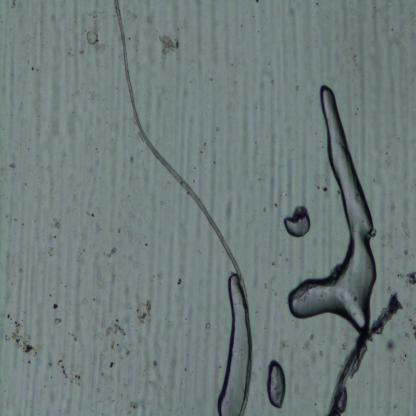Air bubble: (272, 83, 378, 333), (214, 271, 253, 413), (265, 359, 288, 410), (282, 203, 312, 239)
Background material: (132, 335, 166, 389), (4, 312, 42, 358), (42, 210, 67, 256), (297, 335, 329, 365), (221, 186, 238, 234), (102, 320, 128, 340), (136, 296, 152, 327), (160, 33, 180, 54), (399, 214, 414, 241), (314, 176, 330, 197), (84, 29, 100, 46), (192, 138, 211, 152), (57, 358, 68, 379), (384, 230, 395, 251), (404, 270, 416, 288), (407, 318, 416, 338), (385, 338, 397, 352), (106, 244, 117, 258), (102, 362, 116, 370), (127, 400, 138, 410), (54, 317, 62, 327), (203, 320, 210, 330), (73, 372, 80, 380), (52, 302, 58, 310), (178, 279, 181, 288)
Cellulose filter fibre: (326, 294, 401, 416)
Microfibre: (114, 1, 253, 415)
